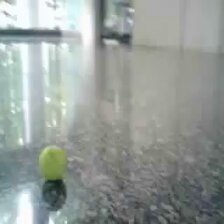tennis: (40, 146, 66, 179)
